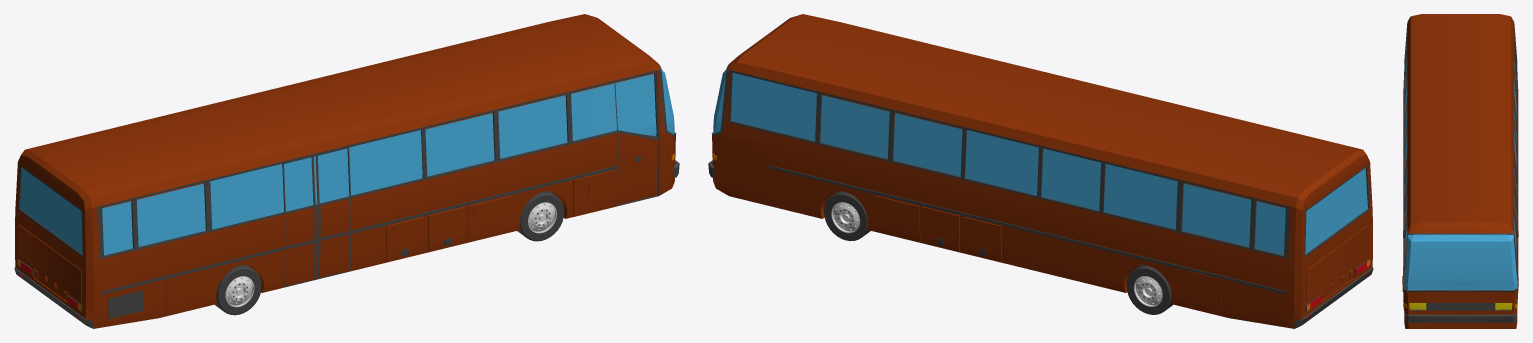
File: BUS_new.fbx
The picture shows the model from 3 angles, left to right: view 1: azimuth 30°, elevation 25°; view 2: azimuth 150°, elevation 25°; view 3: azimuth 270°, elevation 25°; orthographic projection. The views are drawn at different scales.
Visible parts, largest first — view 1: wheelFL; view 2: wheelFL; view 3: wheelFL.
Part boxes in pixels (left/top/right/bottom): wheelFL: left=14, top=14, right=679, bottom=328; wheelFL: left=708, top=14, right=1373, bottom=328; wheelFL: left=1402, top=14, right=1518, bottom=328.
Bounding box in the file's own units: 955 × 235 × 212.
